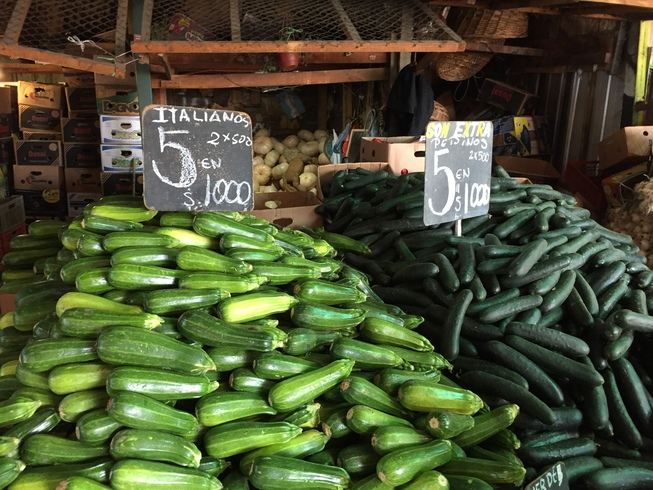precio: (141, 102, 257, 214), (421, 118, 497, 227)
